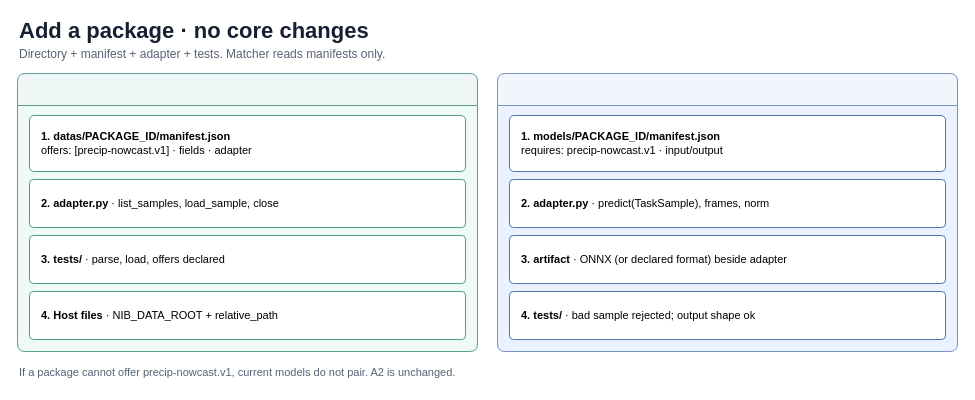
The diagram is 975 pixels wide and 400 high, and some of its shapes have lost their labels. Each missing label, with the box of its shape:
Data implementation · implements B1: (16, 72, 478, 352)
Model implementation · implements C1: (496, 72, 958, 352)
